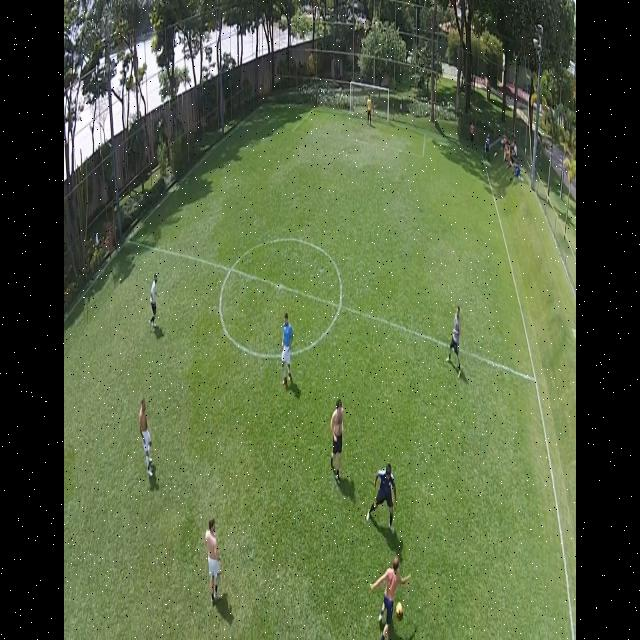humans: (370, 548, 412, 640), (364, 458, 399, 532), (205, 516, 223, 609), (330, 393, 348, 486), (138, 393, 156, 485), (446, 303, 466, 378), (279, 307, 296, 390), (147, 272, 160, 334)
